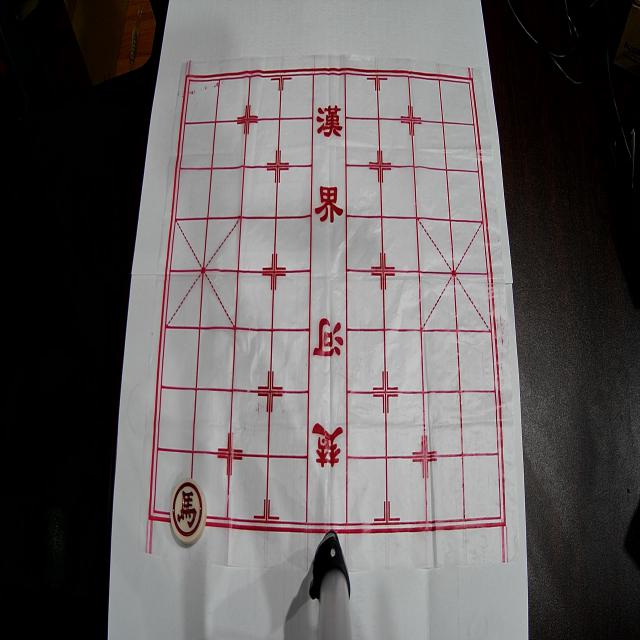red-horse: (170, 478, 207, 545)
